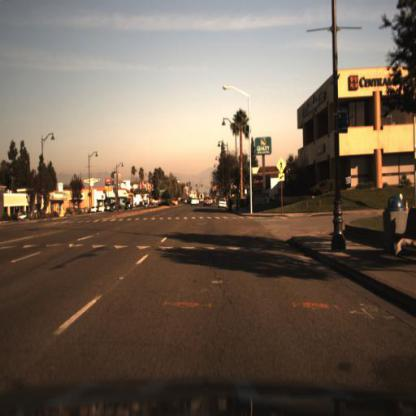car: (111, 203, 120, 213), (219, 199, 227, 210), (204, 197, 212, 208), (126, 202, 134, 212), (191, 199, 199, 207), (145, 203, 150, 209)
